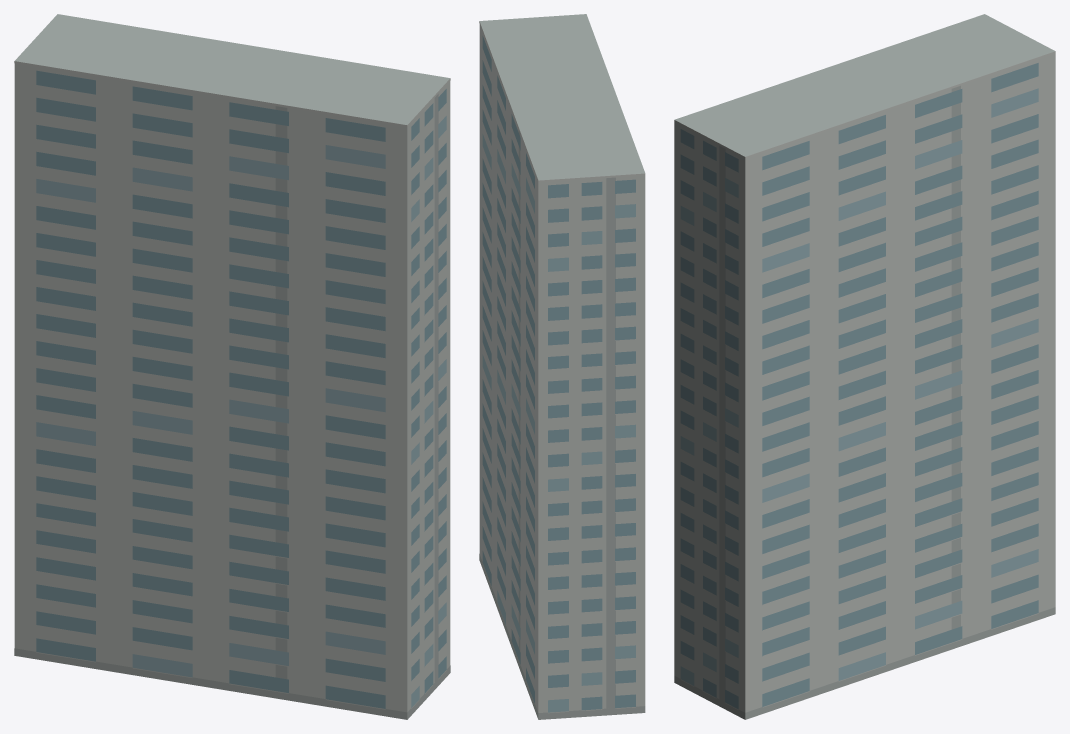
Rendered from residential-b8c4ce8c-c777-464c-bd1b-bc08de9cdb7f.glb.
3 views of the same model, side by side, from view 1: azimuth 30°, elevation 25°; view 2: azimuth 150°, elevation 25°; view 3: azimuth 270°, elevation 25° (orthographic). The views are drawn at different scales.
Parts seen in each view (by area): view 1: residential-b8c4ce8c-c777-464c-bd1b-bc08de9cdb7f.tmp; view 2: residential-b8c4ce8c-c777-464c-bd1b-bc08de9cdb7f.tmp; view 3: residential-b8c4ce8c-c777-464c-bd1b-bc08de9cdb7f.tmp.
Part boxes in pixels (x1,y1,x2,y2): residential-b8c4ce8c-c777-464c-bd1b-bc08de9cdb7f.tmp: (14,14,450,719); residential-b8c4ce8c-c777-464c-bd1b-bc08de9cdb7f.tmp: (479,14,645,719); residential-b8c4ce8c-c777-464c-bd1b-bc08de9cdb7f.tmp: (674,14,1055,719).
Size of the model in its own units: 34.32 by 63 by 38.68.
